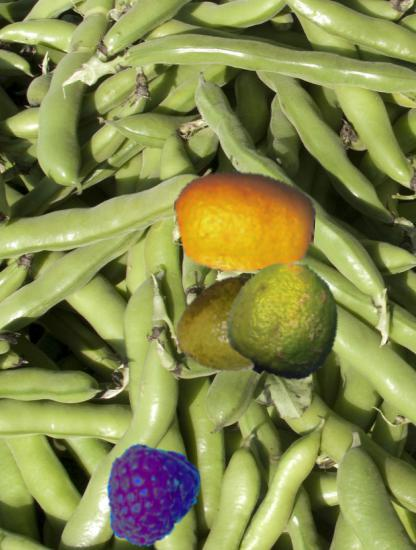Guava: (174, 271, 284, 381)
Kumquats: (173, 151, 316, 294)
Limes: (226, 260, 347, 381)
Raspberry: (94, 440, 199, 545)
